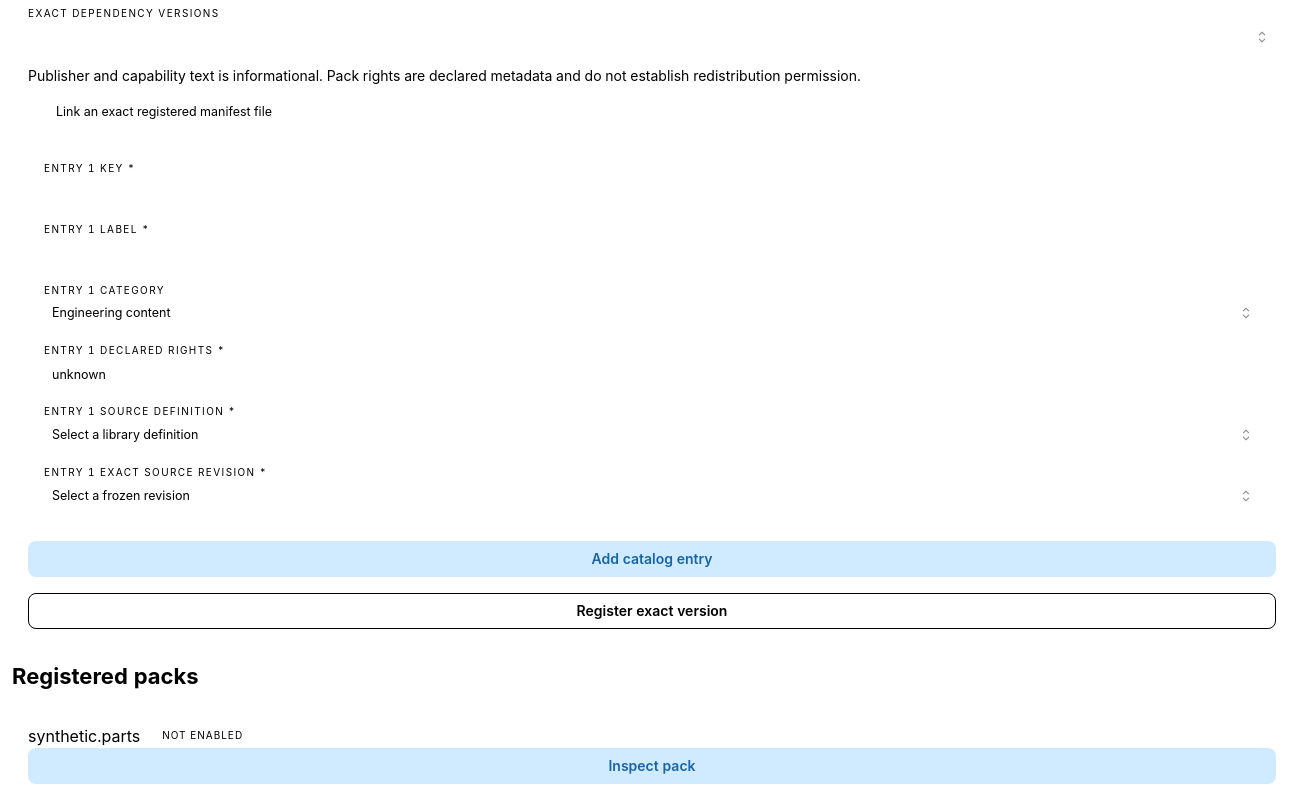
it: an editor who is not an admin cannot enable or disable packs
(page scrolled)
Click the button "Inspect pack".
click(652, 766)  # box [28,748,1276,784]
(page scrolled)
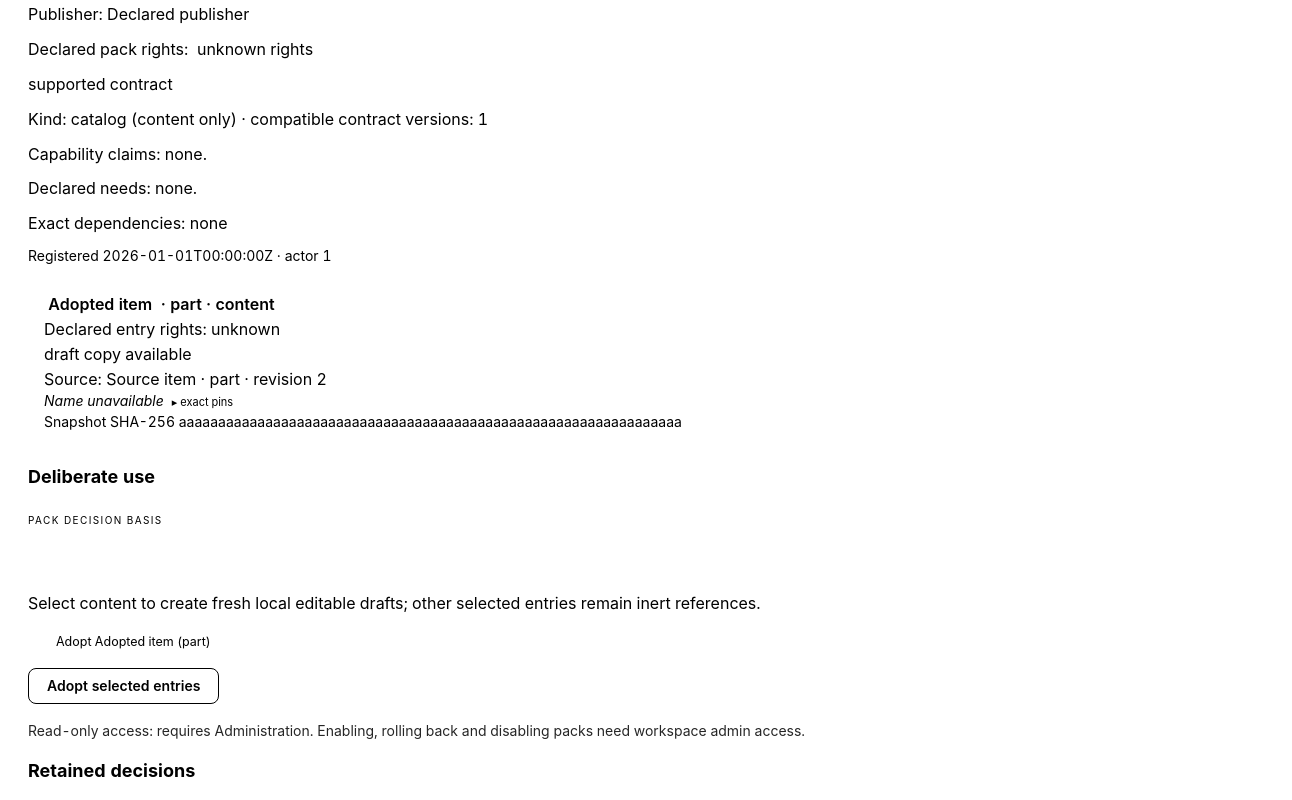
Check: the text "need workspace admin access" is shown, box [310,722,805,739]
